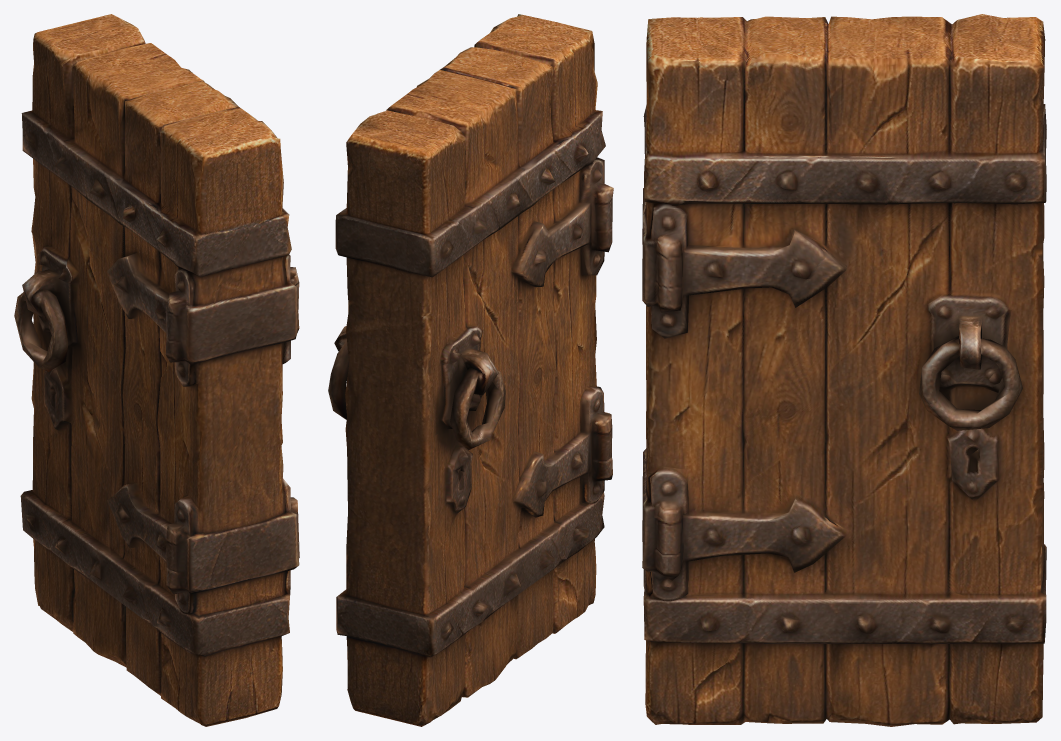
Rendered from porta.glb.
The picture shows the model from 3 angles, left to right: view 1: azimuth 30°, elevation 25°; view 2: azimuth 150°, elevation 25°; view 3: azimuth 270°, elevation 25°; orthographic projection. The views are drawn at different scales.
Visible parts, largest first — view 1: tripo_node_238ea69e-5003-4227-814a-37257e64c8b1; view 2: tripo_node_238ea69e-5003-4227-814a-37257e64c8b1; view 3: tripo_node_238ea69e-5003-4227-814a-37257e64c8b1.
Boxes of the visible parts, x1,y1,x2,y2 form: tripo_node_238ea69e-5003-4227-814a-37257e64c8b1: (14, 14, 299, 726); tripo_node_238ea69e-5003-4227-814a-37257e64c8b1: (328, 14, 613, 726); tripo_node_238ea69e-5003-4227-814a-37257e64c8b1: (642, 14, 1046, 726).
Bounding box in the file's own units: 0.5656 × 2 × 1.09.
1 material, 1 textured.
